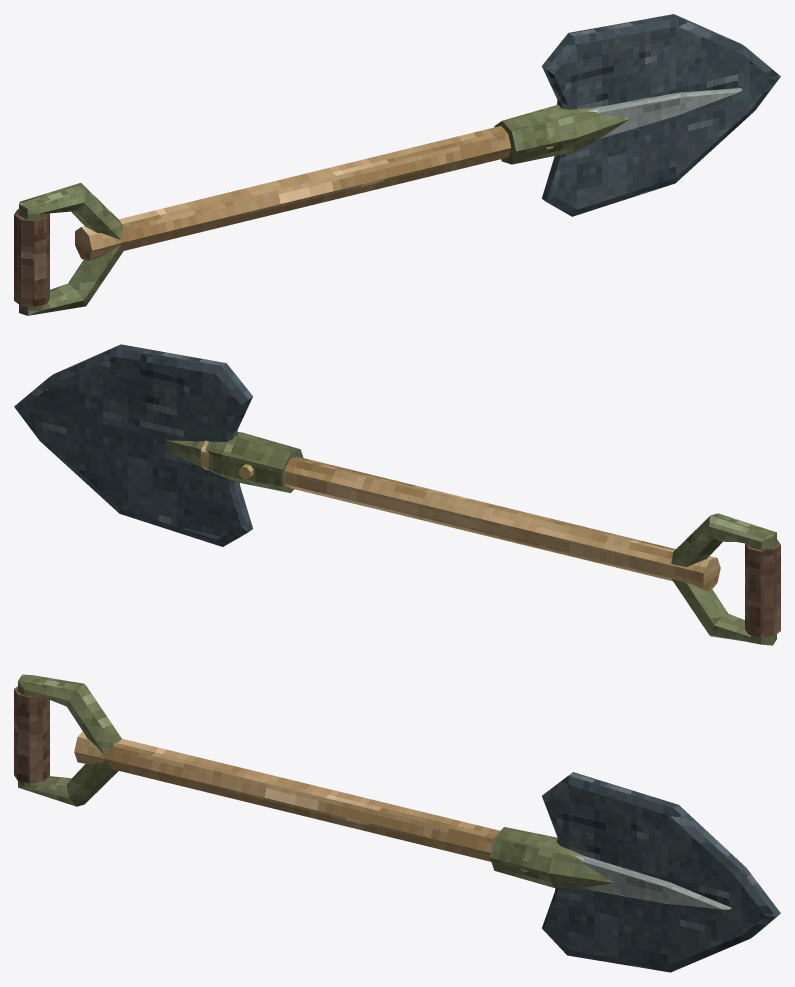
The model's file is 03_spade.glb.
3 views of the same model, one above another, from view 1: azimuth 30°, elevation 25°; view 2: azimuth 150°, elevation 25°; view 3: azimuth 330°, elevation 25° (orthographic).
Parts seen in each view (by area): view 1: 03_spade; view 2: 03_spade; view 3: 03_spade.
Boxes of the visible parts, x1,y1,x2,y2 form: 03_spade: [14, 14, 780, 315]; 03_spade: [14, 344, 780, 645]; 03_spade: [14, 674, 780, 972].
Bounding box in the file's own units: 1.03 × 0.2325 × 0.0638.
1 material, 1 textured.
